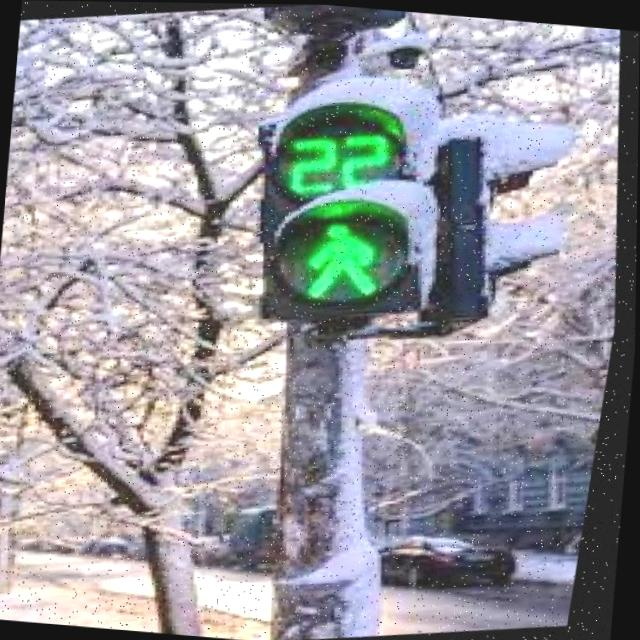green_light: (262, 114, 429, 315)
